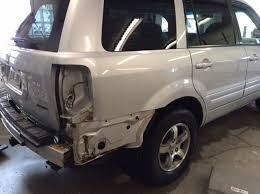Broken-glass: (61, 65, 90, 120)
Dent: (49, 110, 144, 168)
